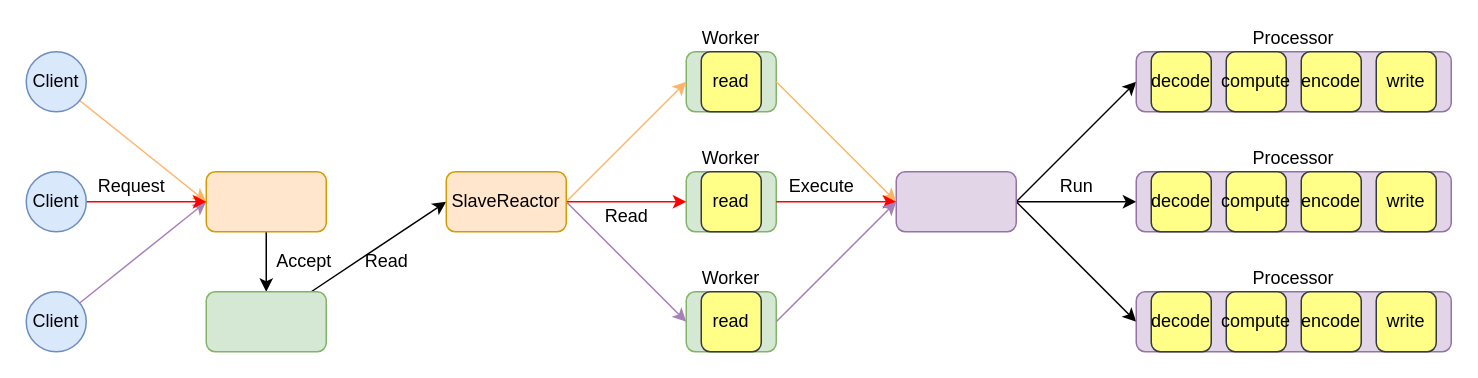
The diagram is 1478 pixels wide and 378 high, and some of its shapes have lost their labels. The shapes that lost their labels are listed below. From the top down, each one's centre as x and y in pixels, then its label:
point (265, 201): MasterReactor
point (955, 201): ThreadPool
point (265, 321): Accepter
